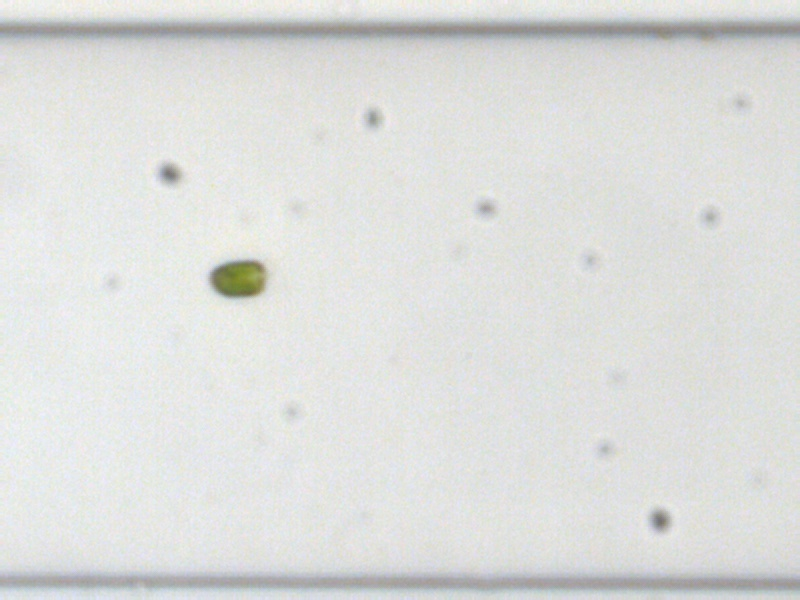Platymonas: (206, 255, 266, 300)
